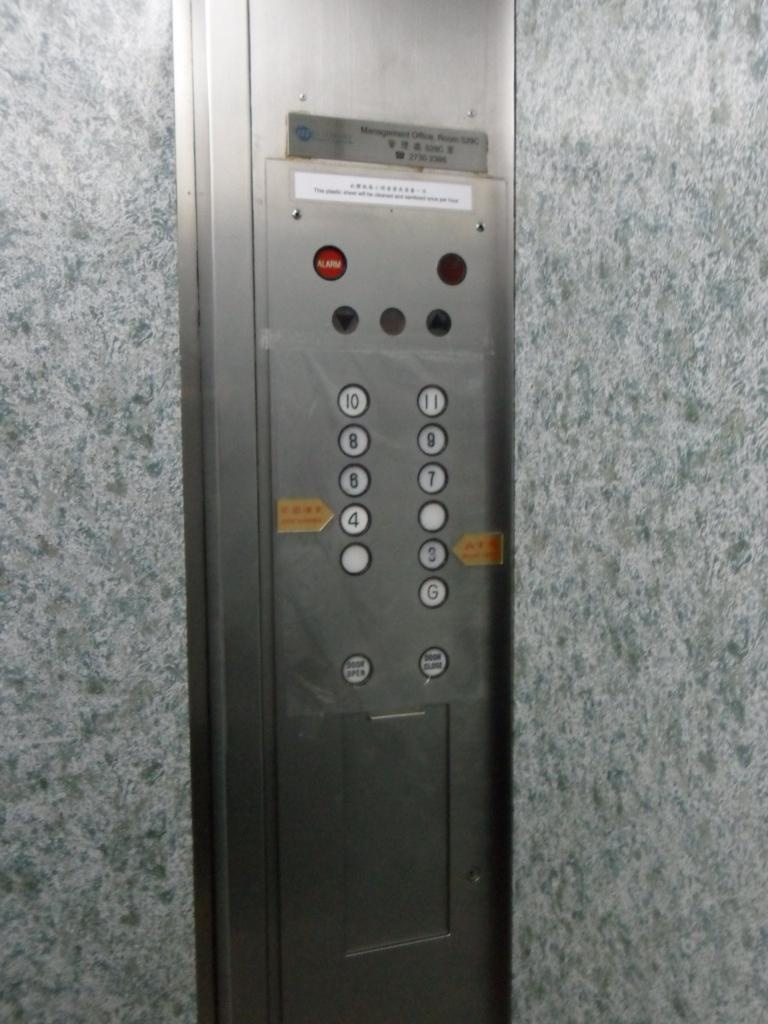10: (335, 382, 371, 419)
11: (415, 383, 448, 418)
3: (418, 538, 448, 570)
4: (337, 501, 373, 537)
6: (337, 462, 371, 497)
7: (416, 460, 448, 495)
8: (339, 423, 371, 458)
9: (416, 422, 448, 456)
G: (418, 576, 449, 609)
down: (330, 304, 361, 336)
empty: (340, 542, 372, 576), (418, 500, 448, 533), (378, 306, 407, 337)
text_alarm: (312, 244, 348, 282)
text_close: (342, 654, 373, 686)
text_open: (419, 646, 449, 679)
unknown: (436, 251, 469, 288)
up: (424, 307, 453, 338)
